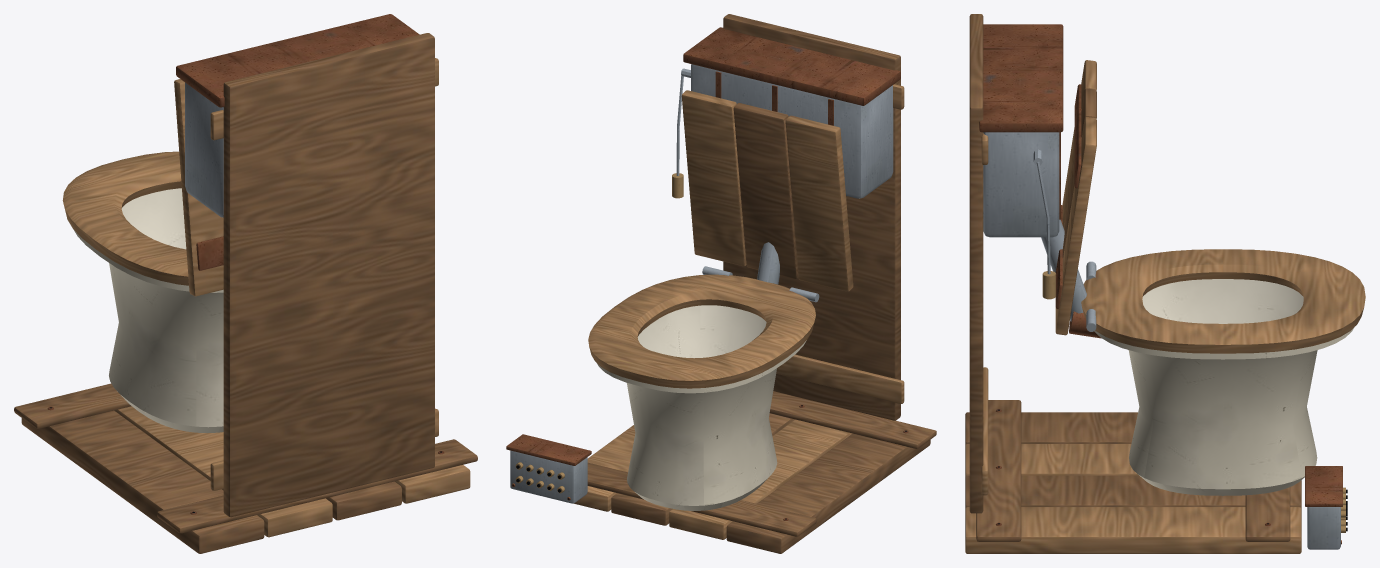
Rendered from toilet.glb.
The picture shows the model from 3 angles, left to right: view 1: azimuth 30°, elevation 25°; view 2: azimuth 150°, elevation 25°; view 3: azimuth 270°, elevation 25°; orthographic projection. The views are drawn at different scales.
Parts seen in each view (by area): view 1: Body; view 2: Body; view 3: Body.
Boxes of the visible parts, x1=… form: Body: x1=14, y1=14, x2=477, y2=553; Body: x1=506, y1=14, x2=936, y2=553; Body: x1=965, y1=14, x2=1365, y2=553.
Bounding box in the file's own units: 0.62 × 0.85 × 0.7144.
Materials: 9 (7 with a texture image).
